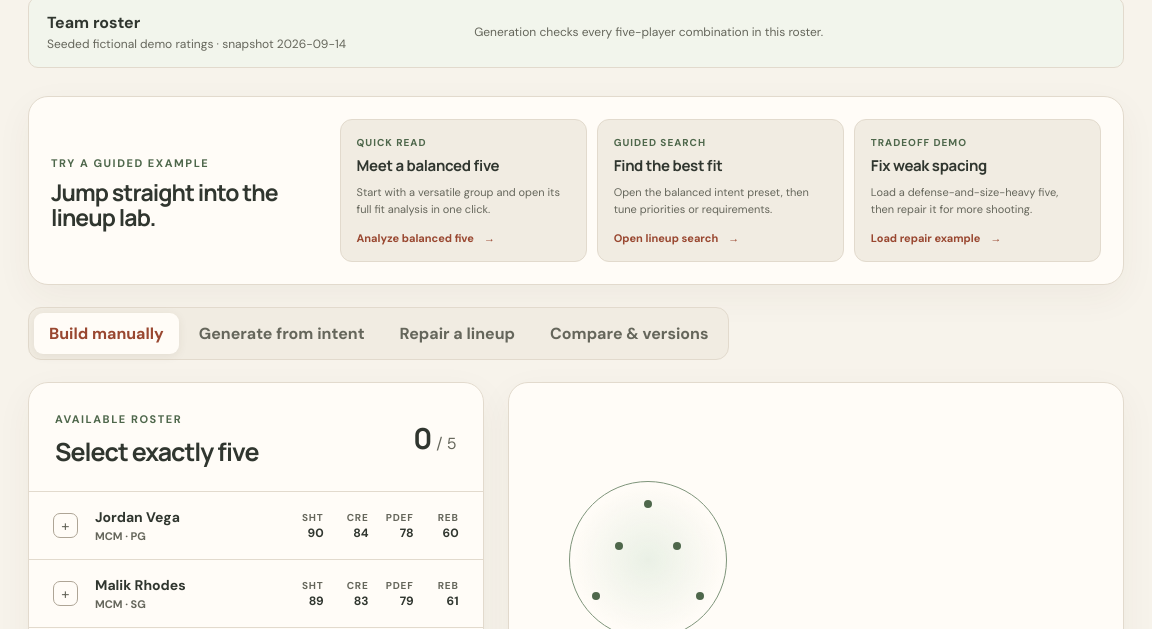
Test: structured lineup generation › keeps structured generation usable when AI is unavailable
(page scrolled)
Expected: the button with aria-label "Select Jordan Vega" is shown, left=29, top=492, right=483, bottom=560
Click the tab "Generate from intent" at [282, 334], box left=184, top=314, right=380, bottom=354
(page scrolled)
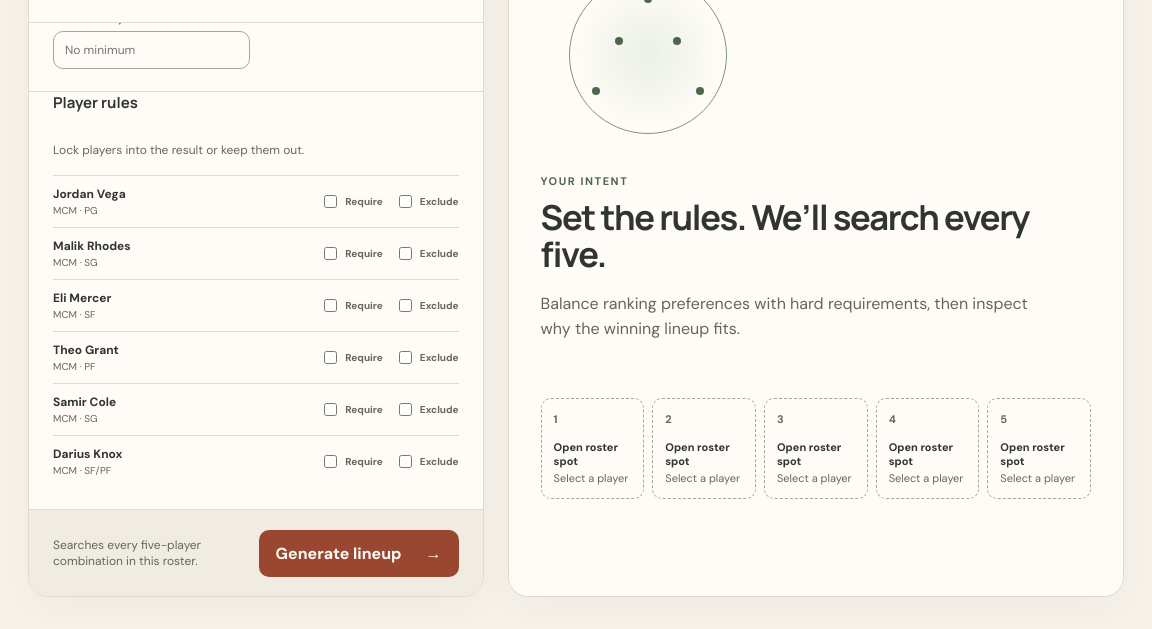
Expected: the button "Generate lineup →" is enabled, left=259, top=530, right=459, bottom=577
